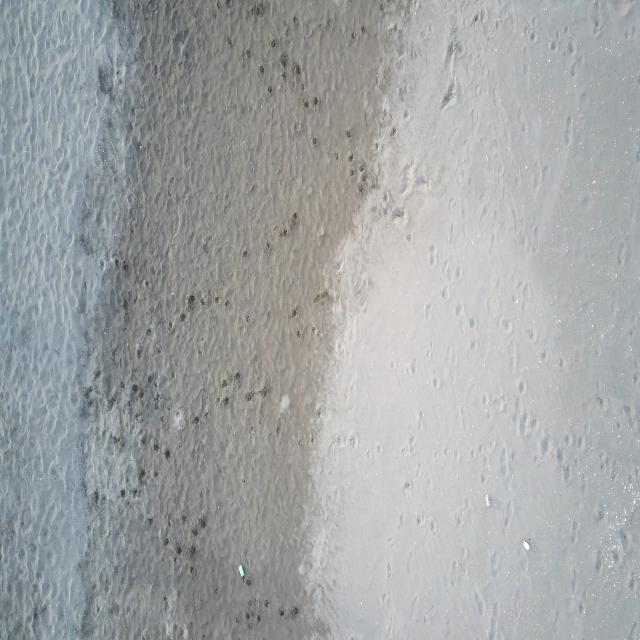Garbage: (522, 539, 528, 550), (239, 564, 243, 577), (484, 493, 487, 507)
